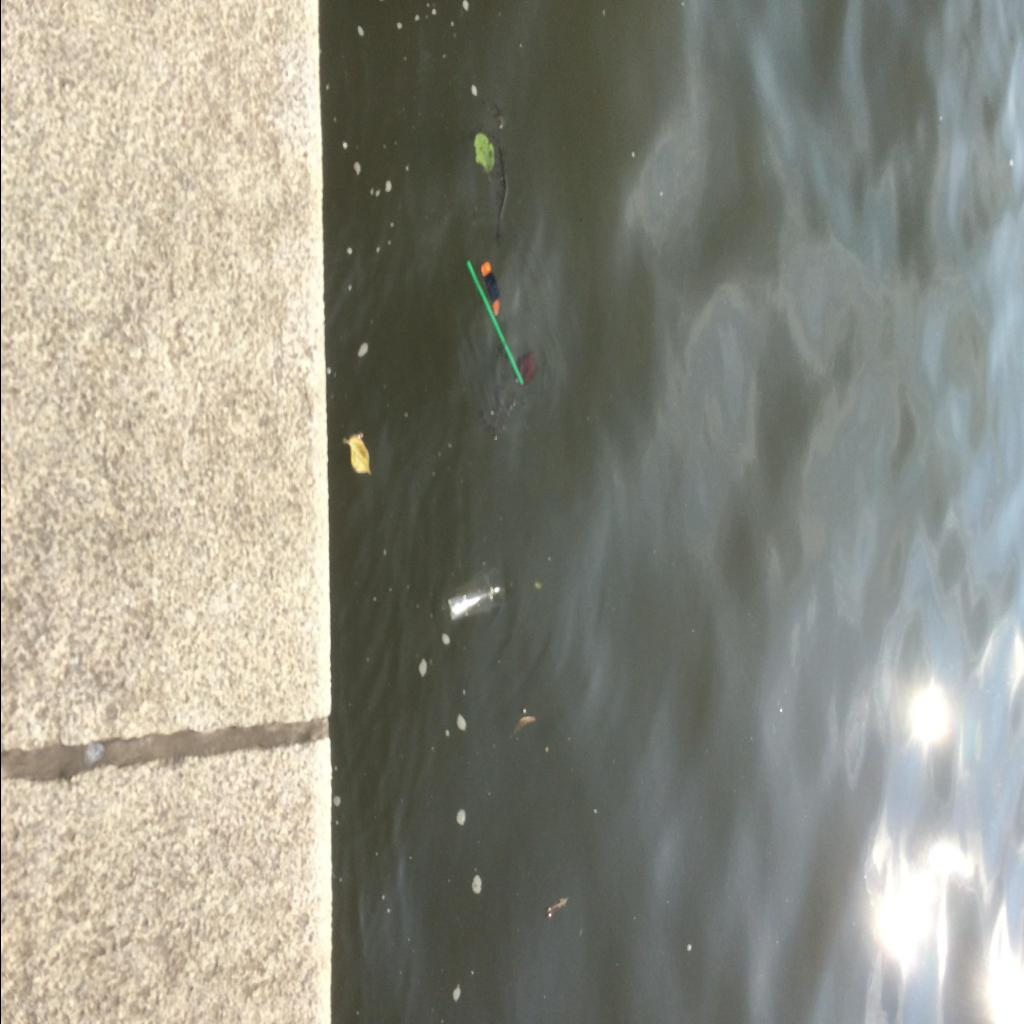Disposable plastic cup: (444, 567, 504, 622)
Other plastic bottle: (480, 262, 499, 316)
Plastic straw: (465, 260, 523, 386)
